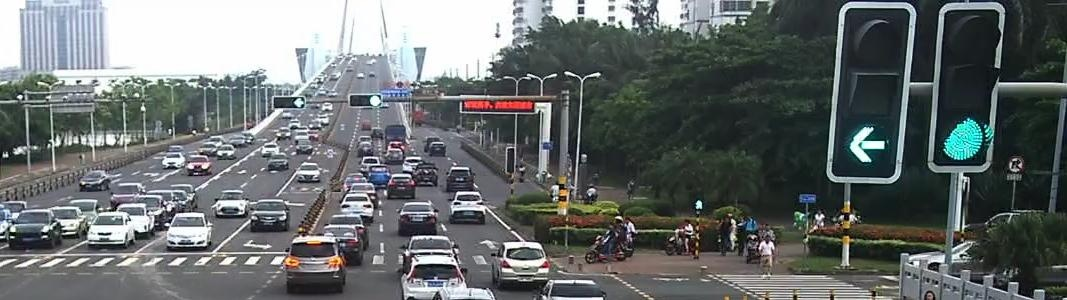green: (941, 115, 988, 164), (369, 94, 379, 106)
greenleft: (844, 122, 892, 168), (292, 95, 305, 109)
greenpeople: (693, 197, 704, 210)
